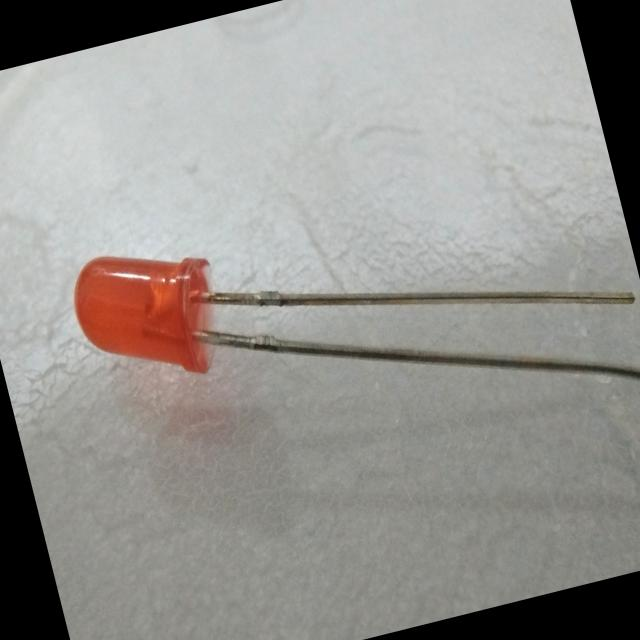red_led: (48, 210, 253, 423)
